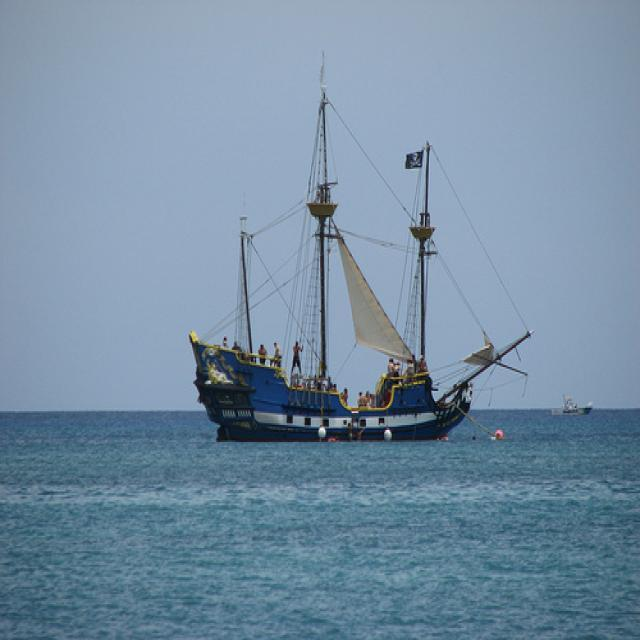Ship: (194, 86, 536, 441)
